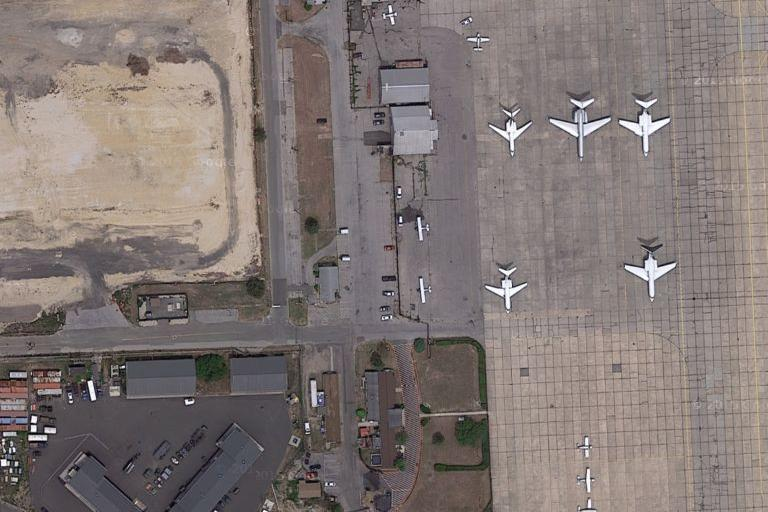plane: (546, 91, 614, 163), (618, 237, 683, 305), (617, 91, 677, 156), (479, 262, 534, 317), (486, 101, 536, 160)
